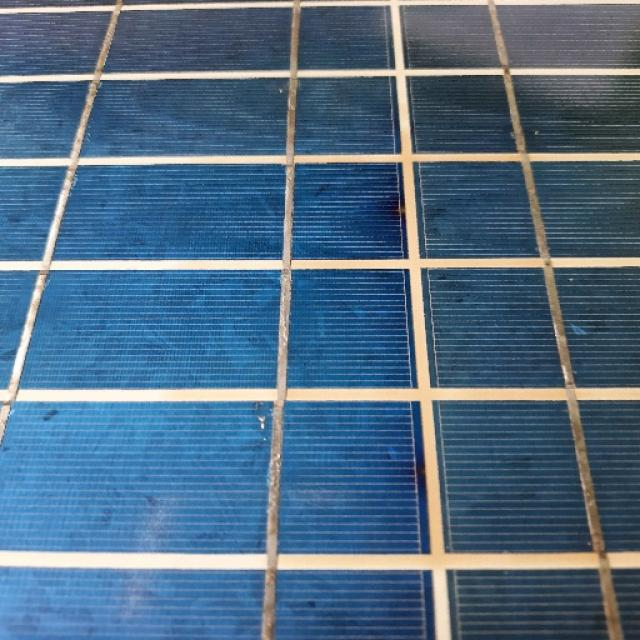Clean: (4, 42, 640, 640)
